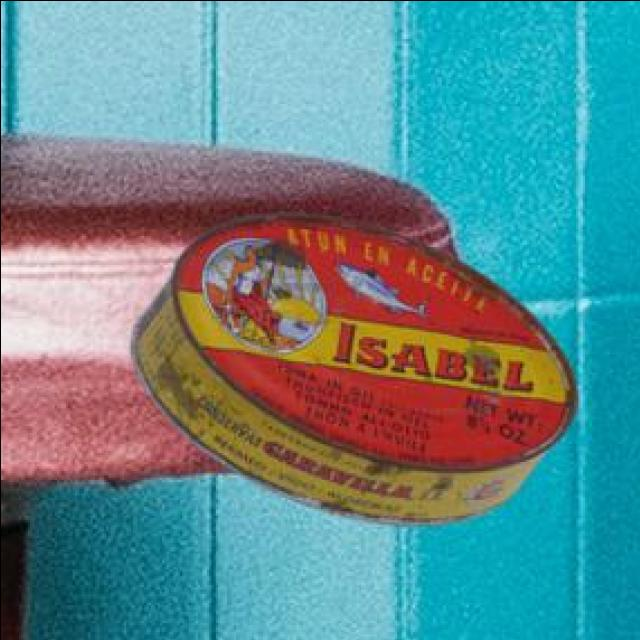logam: (129, 209, 572, 523)
